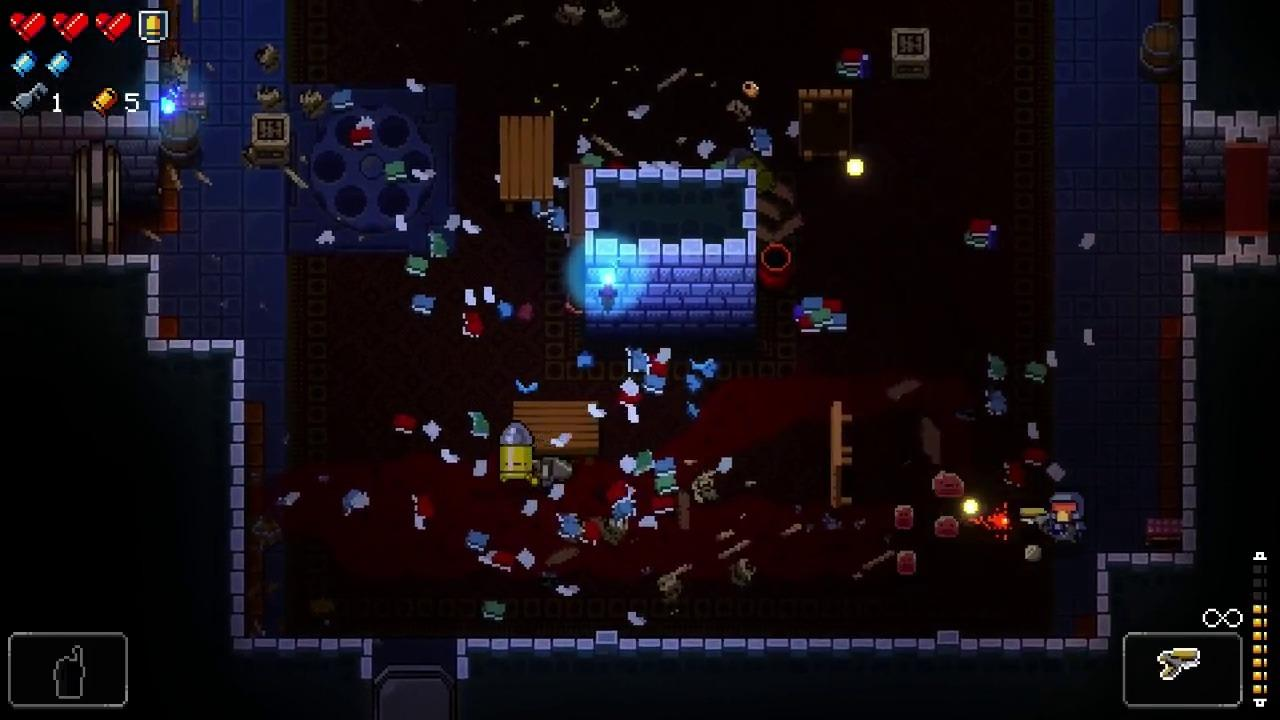blobulin_s: (932, 471, 966, 499), (934, 515, 960, 539), (897, 550, 917, 578), (894, 505, 913, 526)
blocked_door: (1226, 127, 1270, 257)
bullet_kin: (499, 419, 535, 482)
locked_door: (74, 138, 121, 254), (374, 665, 457, 720)
player: (1048, 495, 1086, 539)
table: (513, 401, 600, 469), (499, 116, 554, 214), (797, 87, 853, 162), (831, 401, 853, 508)
teleporter: (289, 81, 456, 255)
